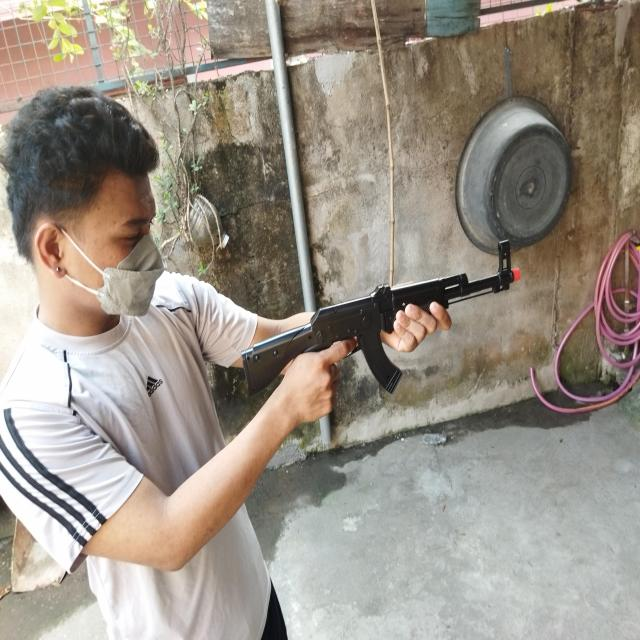rifle: (239, 239, 523, 412)
